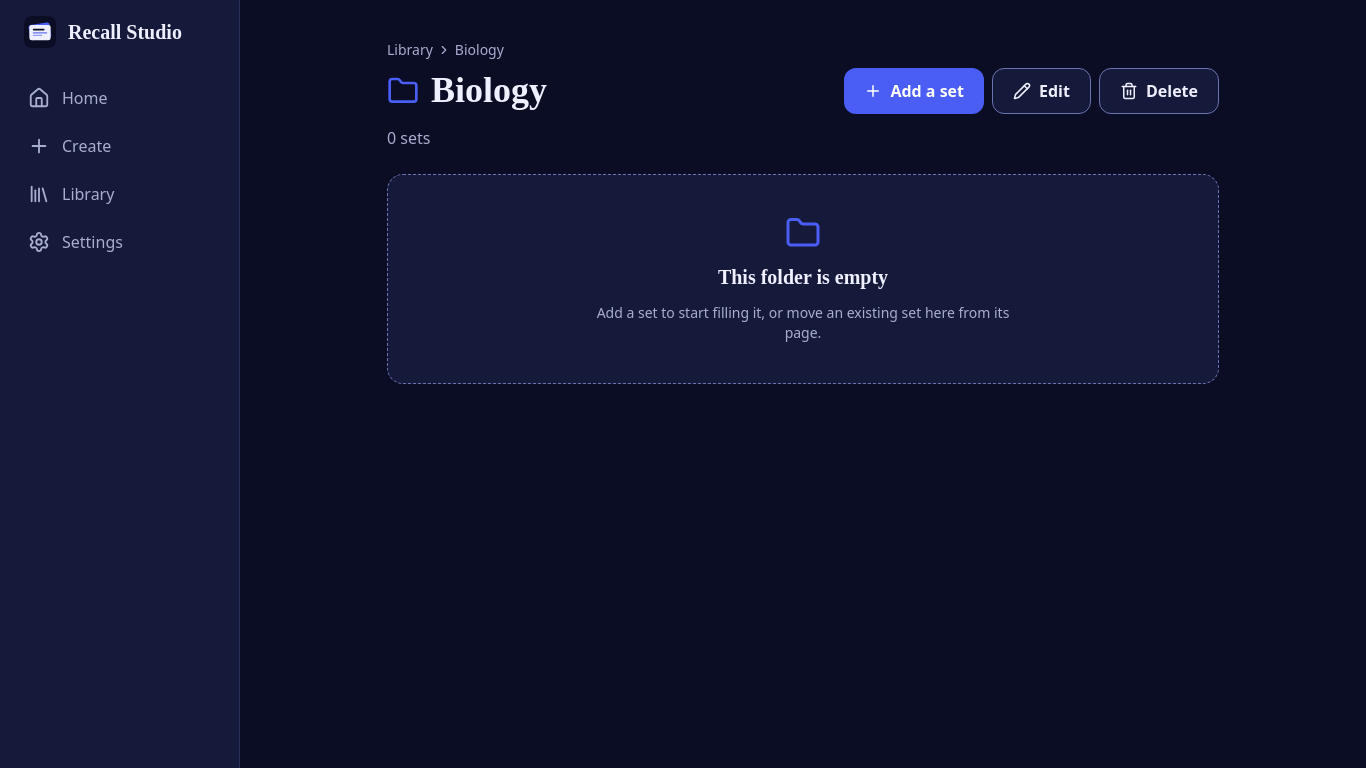
Test: Folders › renames and recolours from the folder page
This screenshot has width=1366, height=768.
Click the button "Edit".
click(1041, 91)  # box [992, 68, 1091, 114]
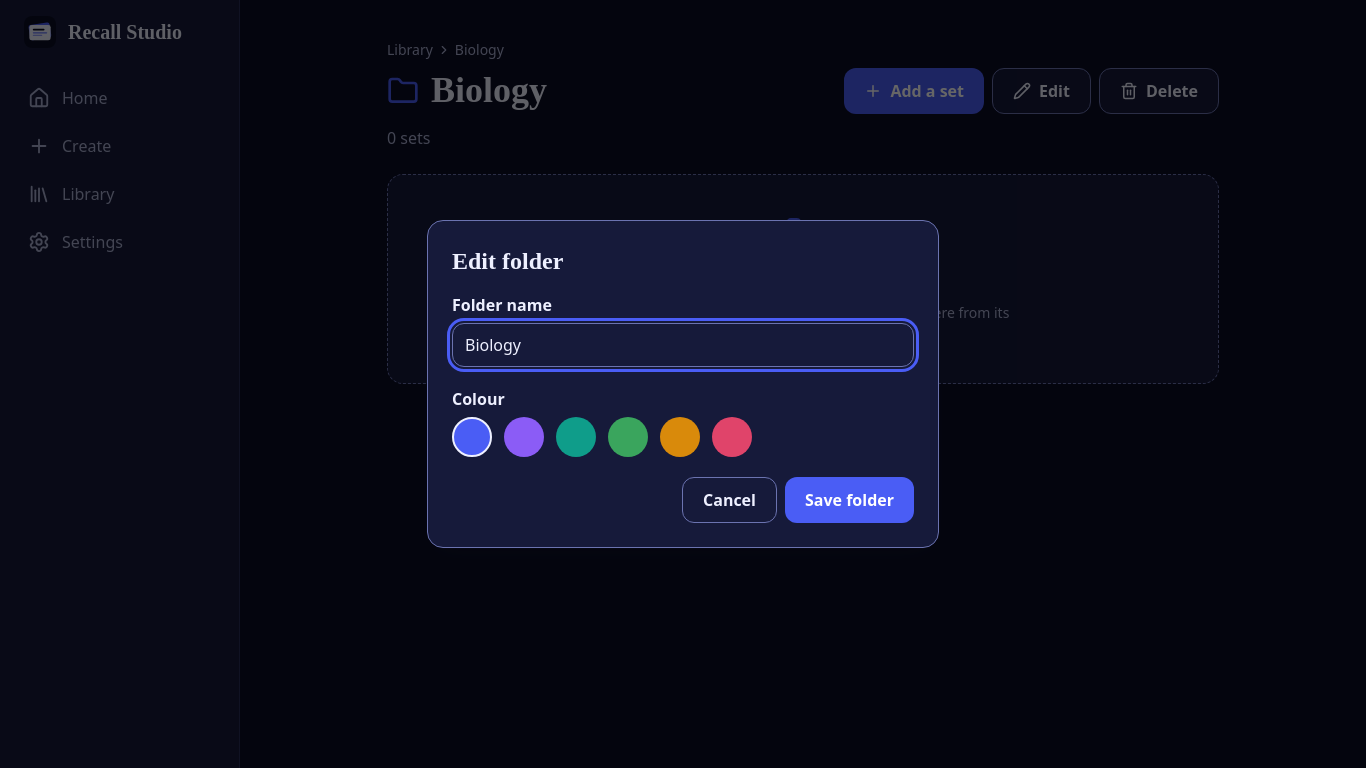
Replace the text in the field labelled "Folder name" with "Life sciences" at (683,345), box [452, 323, 914, 367]
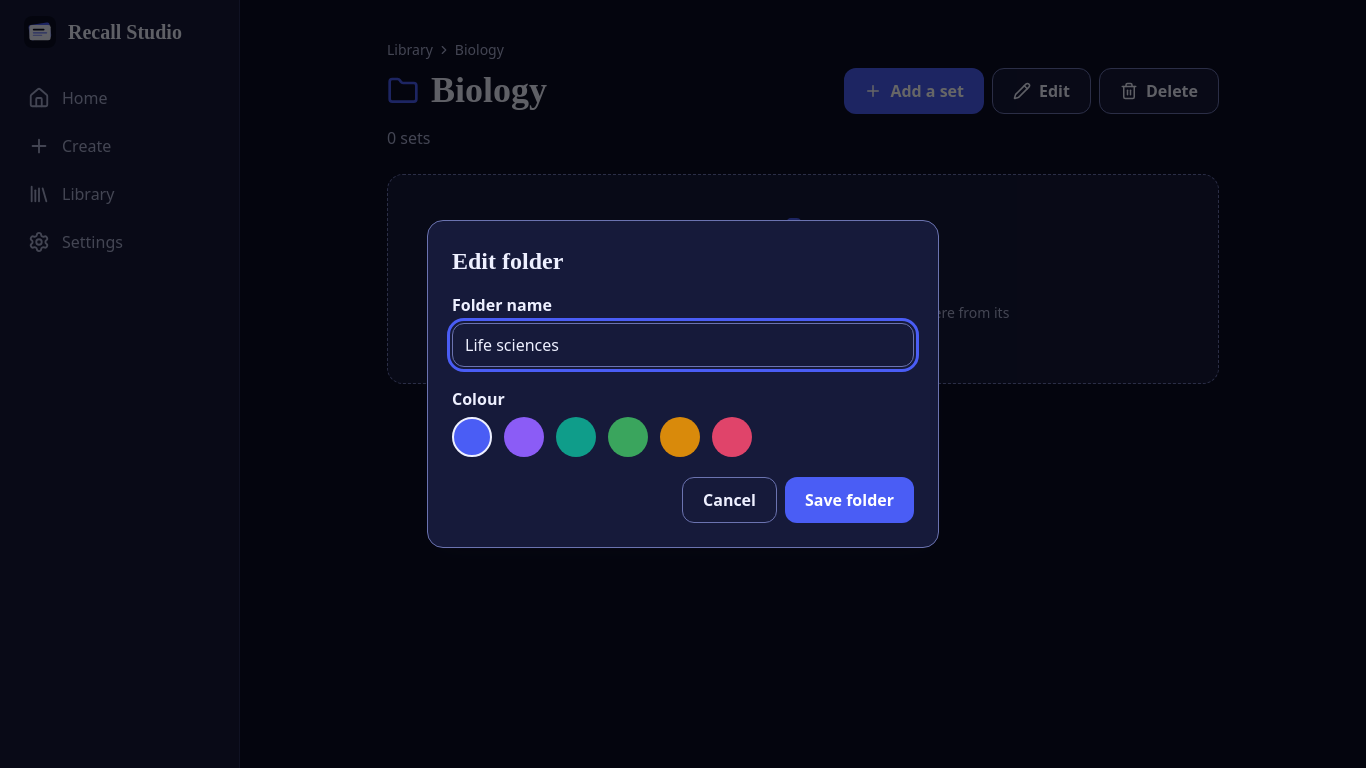
Click the button "Save folder".
click(850, 500)  # box [785, 477, 914, 523]
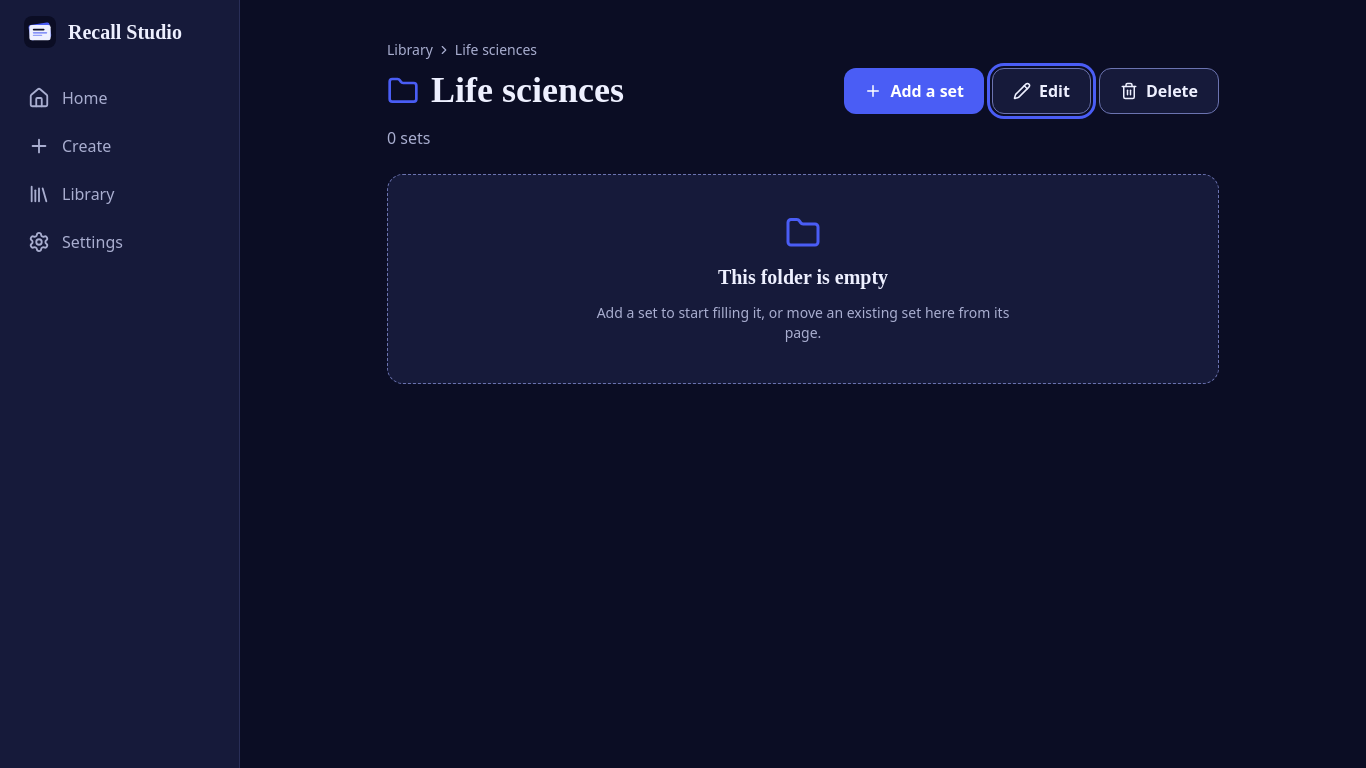
Expected: the text "Life sciences" is shown, [455, 40, 537, 60]
Expected: the heading "Life sciences" is shown, [387, 68, 624, 118]
